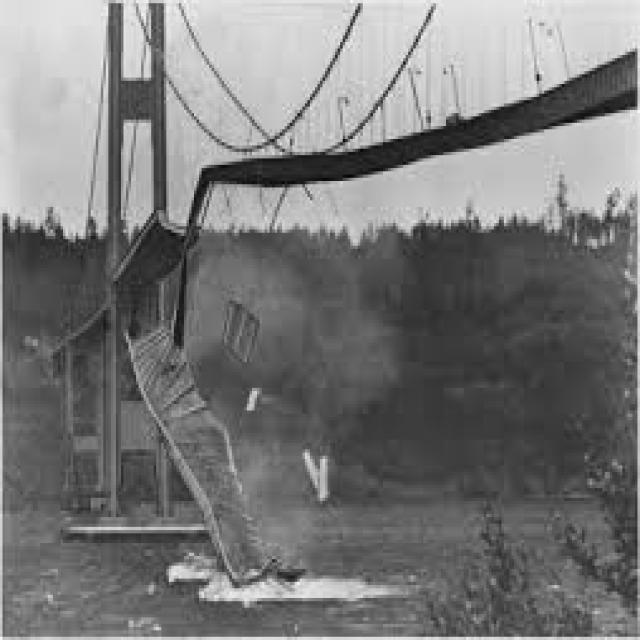bridge collapse: (34, 42, 484, 620)
